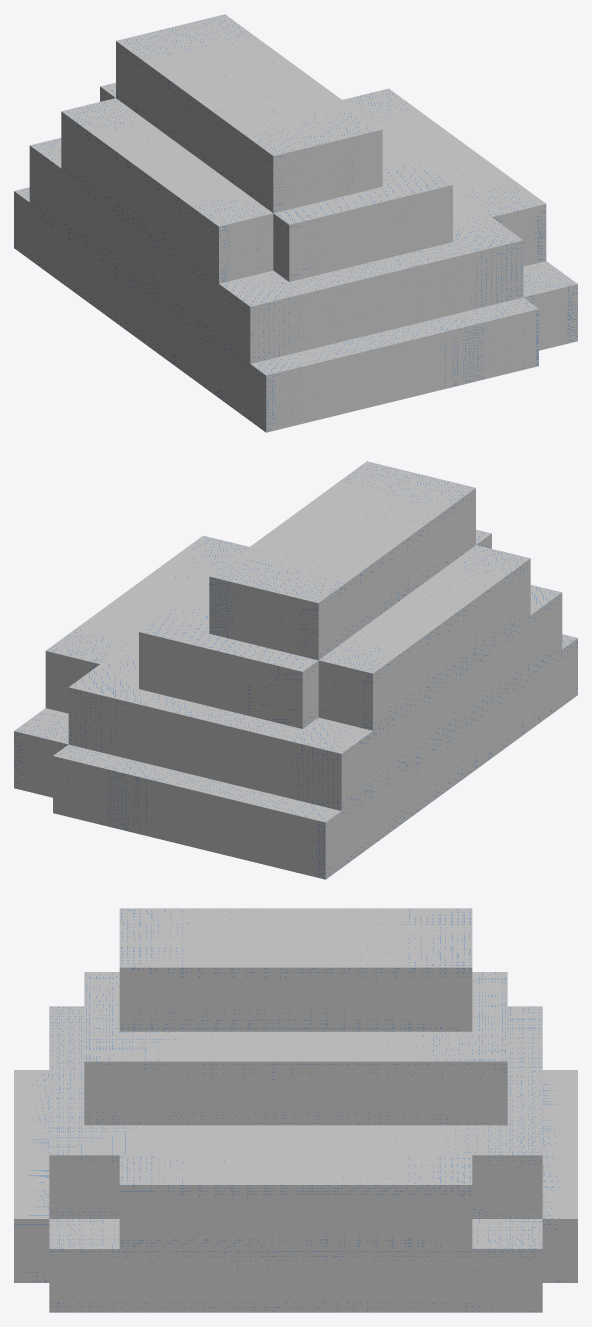
The model's file is stone-01.fbx.
3 views of the same model, one above another, from view 1: azimuth 30°, elevation 25°; view 2: azimuth 150°, elevation 25°; view 3: azimuth 270°, elevation 25° (orthographic). The views are drawn at different scales.
Parts seen in each view (by area): view 1: generated; view 2: generated; view 3: generated.
Part boxes in pixels (x1,y1,x2,y2): generated: [14, 14, 577, 432]; generated: [14, 461, 577, 879]; generated: [14, 908, 577, 1312].
Bounding box in the file's own units: 60 × 40 × 80.
1 material, 1 textured.
